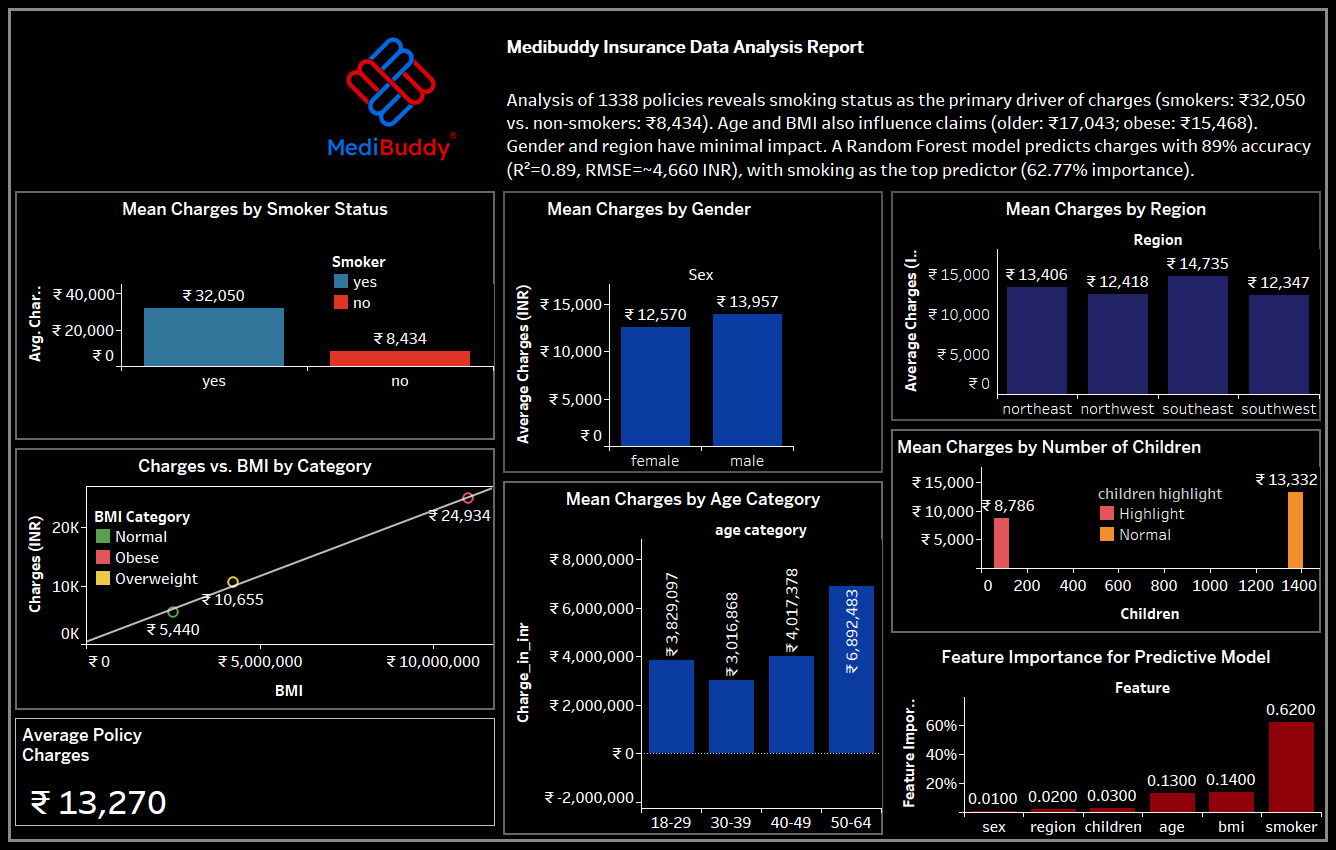

This screenshot's page, from the dashboard's own definition file:
{"tool":"tableau","page":{"name":"Dashboard 2","canvas":[1336,850],"ordinal":0},"visuals":[{"type":"text","box":[11,11,273.5,176]},{"type":"image","param":"Image/medibuddy logo.png","box":[284.5,11,214.1,176]},{"type":"text","box":[498.6,11,826.4,73.3]},{"type":"text","box":[498.6,84.3,826.4,102.7]},{"type":"worksheet","title":"Charges by Smoker","mark":"Bar","rows":["F8"],"cols":["F3"],"box":[11,187,488,256.5]},{"type":"worksheet","title":"Charges by Gender","mark":"Bar","rows":["F8"],"cols":["F6"],"box":[499,187,388,290.4]},{"type":"worksheet","title":"Charges by Region","mark":"Bar","rows":["F8"],"cols":["F4"],"box":[887,187,438,238]},{"type":"legend","title":"Charges by Smoker","param":"[federated.1viuxul1os7e2y189hffe15tmql5].[none:F3:nk]","box":[330.6,249,140.8,75.3]},{"type":"worksheet","title":"Charges by Children","mark":"Bar","rows":["F8"],"cols":["F2"],"box":[887,425,438,212]},{"type":"worksheet","title":"Charges vs. BMI","mark":"Automatic","rows":["F7"],"cols":["F8"],"box":[11,443.5,488,270.7]},{"type":"worksheet","title":"Charges by Age","mark":"Bar","rows":["F8"],"cols":["Calculation_1248904483579404288"],"box":[499,477.4,388,361.6]},{"type":"legend","title":"Charges by Children","param":"[federated.1viuxul1os7e2y189hffe15tmql5].[none:Calculation_1563593507391315968:n","box":[1097,481,141,75]},{"type":"legend","title":"Charges vs. BMI","param":"[federated.1viuxul1os7e2y189hffe15tmql5].[none:Calculation_1563593507403059202:n","box":[93,504,107,104]},{"type":"worksheet","title":"Feature Importance","mark":"Automatic","rows":["Importance"],"cols":["Feature"],"box":[887,637,438,202]},{"type":"worksheet","title":"Average Charges","mark":"Automatic","box":[11,714.2,488,116]}]}

Visuals, with their boxes in screenshot pixels (x1, y1, x2, y2), scaled from the page's 1336x850 canvas onto the 1336x850 screenshot:
text: box(11, 11, 284, 187)
image: box(284, 11, 499, 187)
text: box(499, 11, 1325, 84)
text: box(499, 84, 1325, 187)
"Charges by Smoker" worksheet (Bar marks): box(11, 187, 499, 444)
"Charges by Gender" worksheet (Bar marks): box(499, 187, 887, 477)
"Charges by Region" worksheet (Bar marks): box(887, 187, 1325, 425)
"Charges by Smoker" legend: box(331, 249, 471, 324)
"Charges by Children" worksheet (Bar marks): box(887, 425, 1325, 637)
"Charges vs. BMI" worksheet: box(11, 444, 499, 714)
"Charges by Age" worksheet (Bar marks): box(499, 477, 887, 839)
"Charges by Children" legend: box(1097, 481, 1238, 556)
"Charges vs. BMI" legend: box(93, 504, 200, 608)
"Feature Importance" worksheet: box(887, 637, 1325, 839)
"Average Charges" worksheet: box(11, 714, 499, 830)
